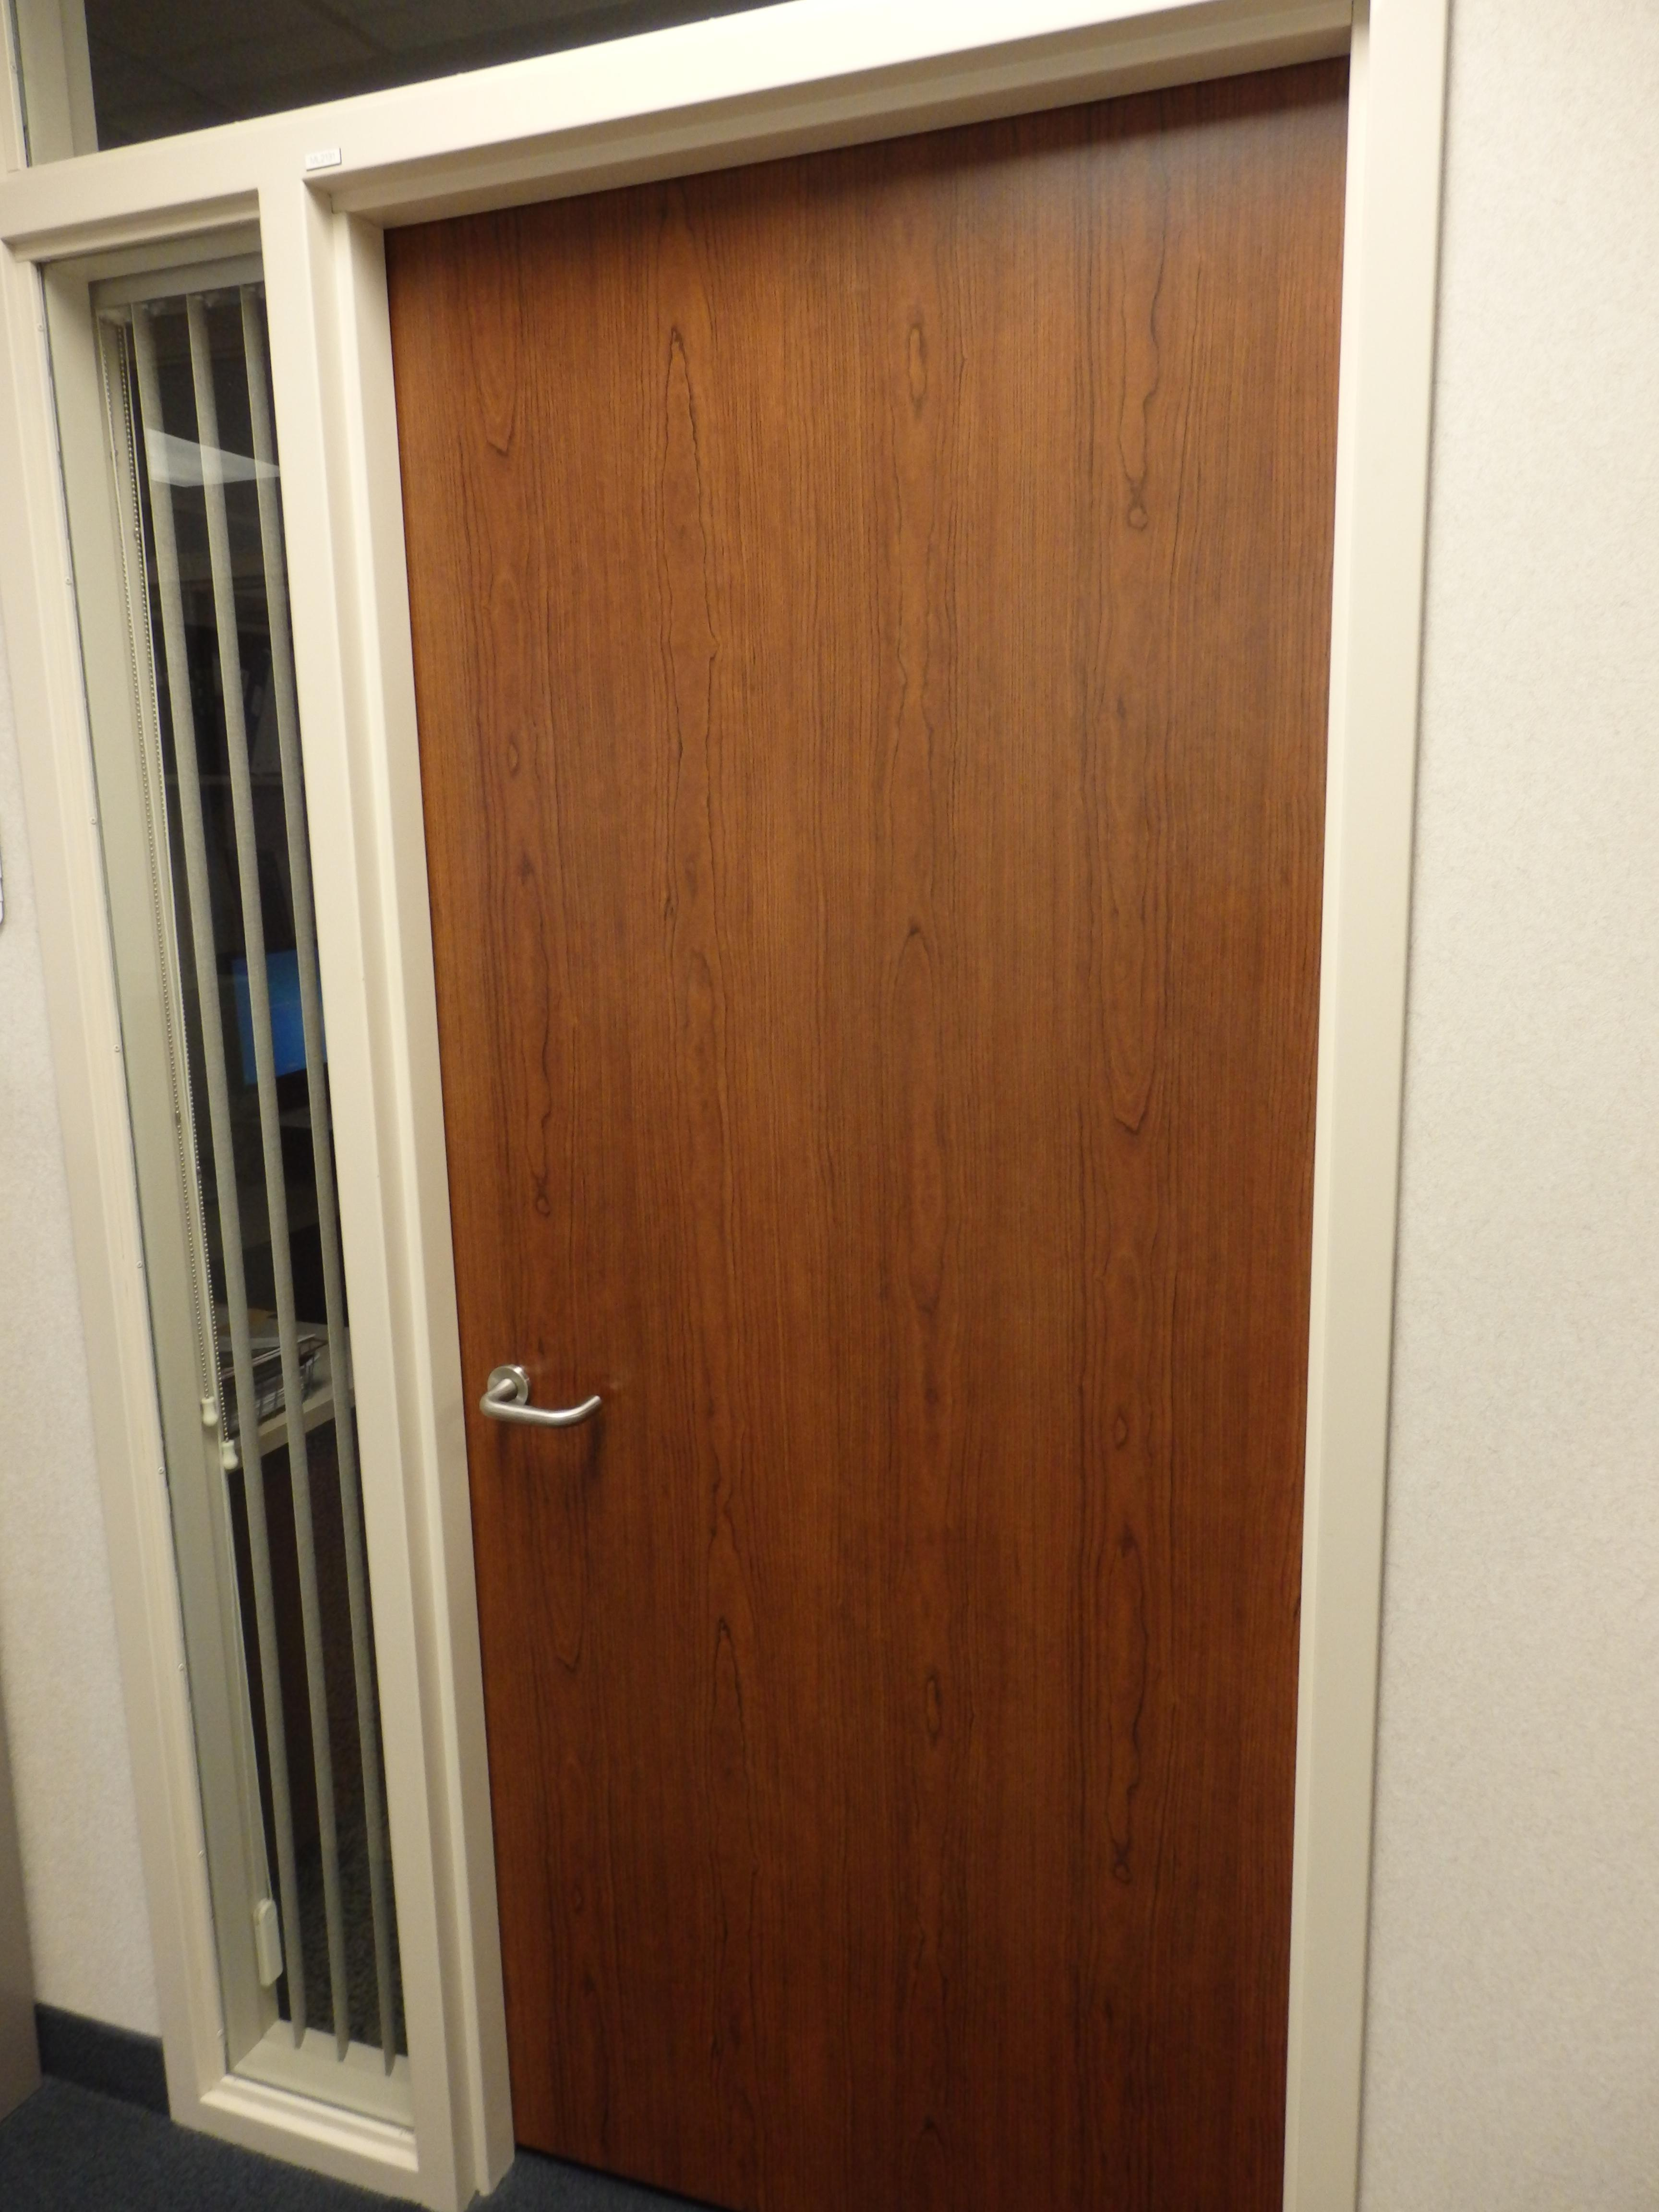handle: (488, 1336, 606, 1484)
